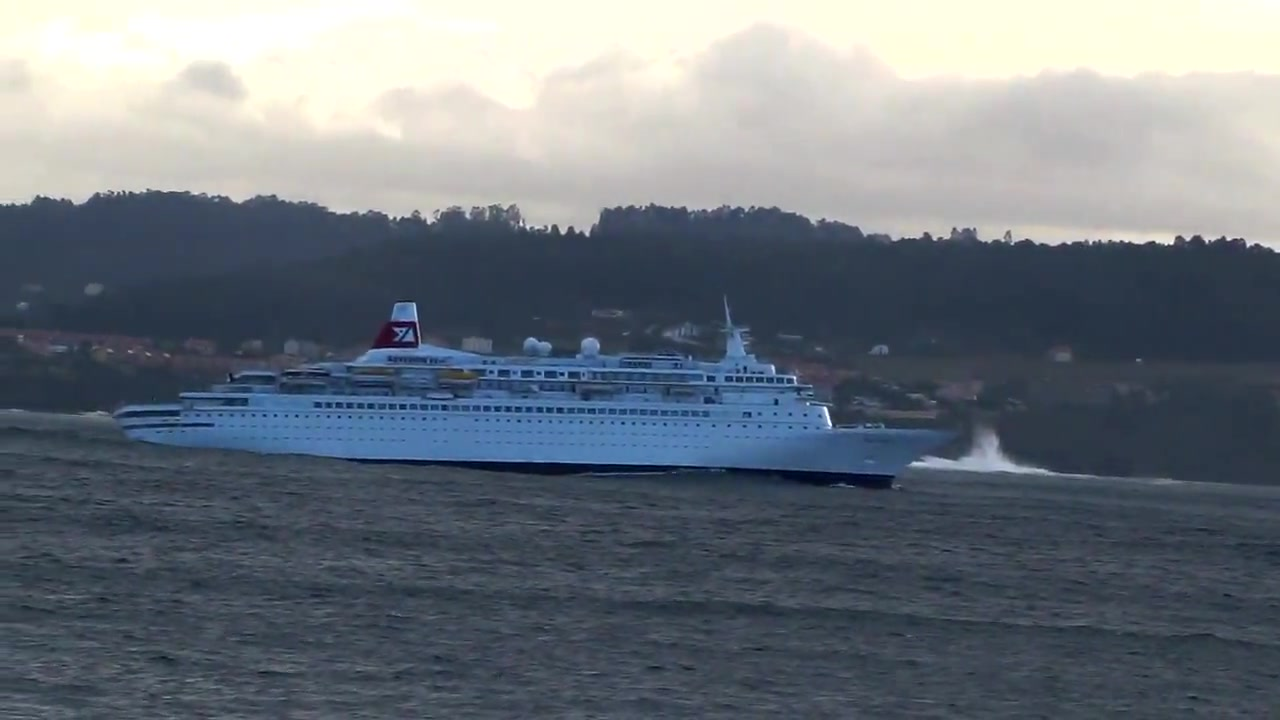boat: (104, 297, 965, 486)
